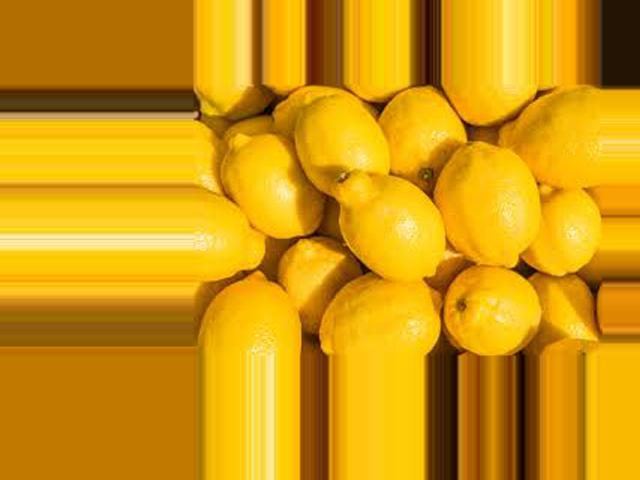lemon: (282, 87, 381, 191)
